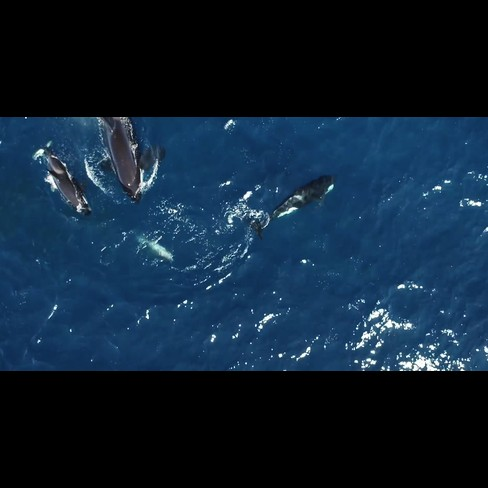orca: (87, 118, 170, 208), (240, 168, 339, 240), (29, 135, 99, 224)
